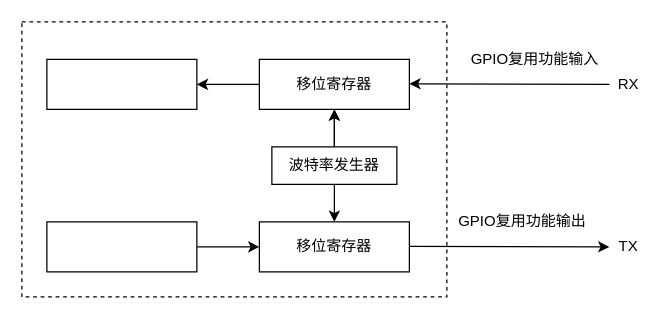
Some shapes in this 669 by 319 pixel diagram are drawn without their labels. Here are the shapes that lost their labels. From the top down, the box of each, then its label:
(46, 58, 197, 109): 输入缓冲寄存器
(46, 221, 197, 272): 输出缓冲寄存器
